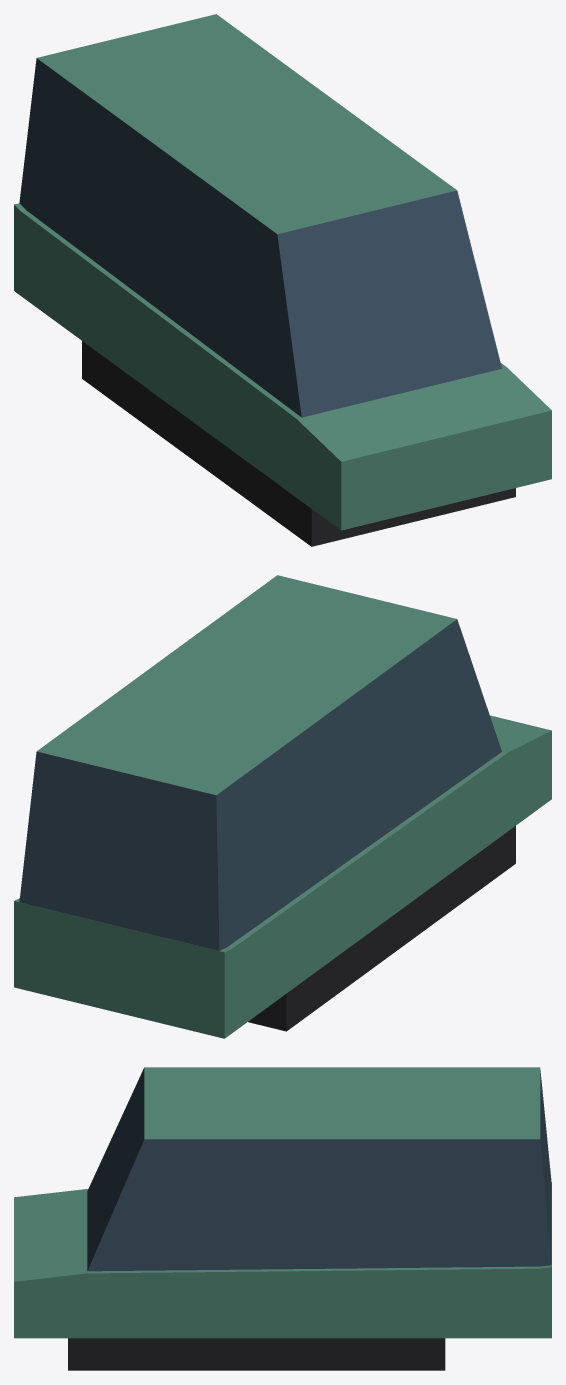
File: 367_far.fbx
The picture shows the model from 3 angles, top to bottom: view 1: azimuth 30°, elevation 25°; view 2: azimuth 150°, elevation 25°; view 3: azimuth 270°, elevation 25°; orthographic projection. The views are drawn at different scales.
Parts seen in each view (by area): view 1: 367_far; view 2: 367_far; view 3: 367_far.
Part boxes in pixels (x1,y1,x2,y2): 367_far: [14, 14, 551, 546]; 367_far: [14, 575, 551, 1038]; 367_far: [14, 1067, 551, 1370].
Size of the model in its own units: 2.04 by 2.55 by 5.49.
